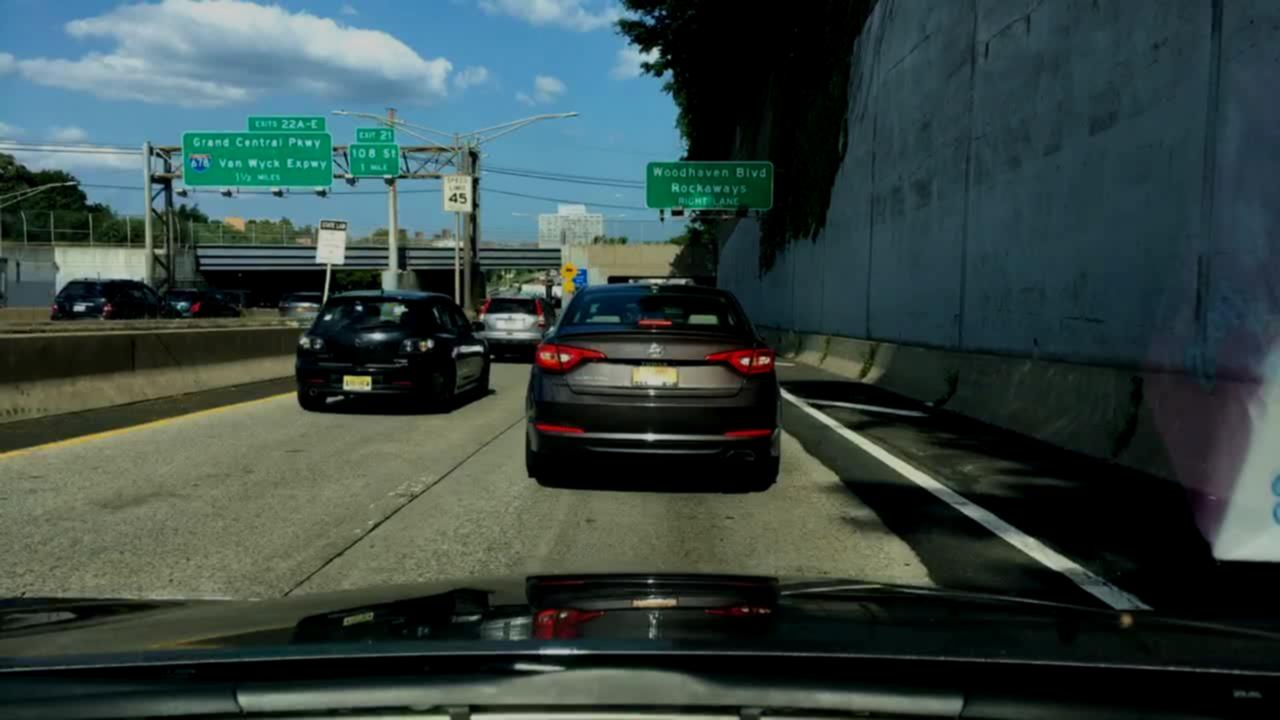Hyundai: (642, 337, 668, 362)
